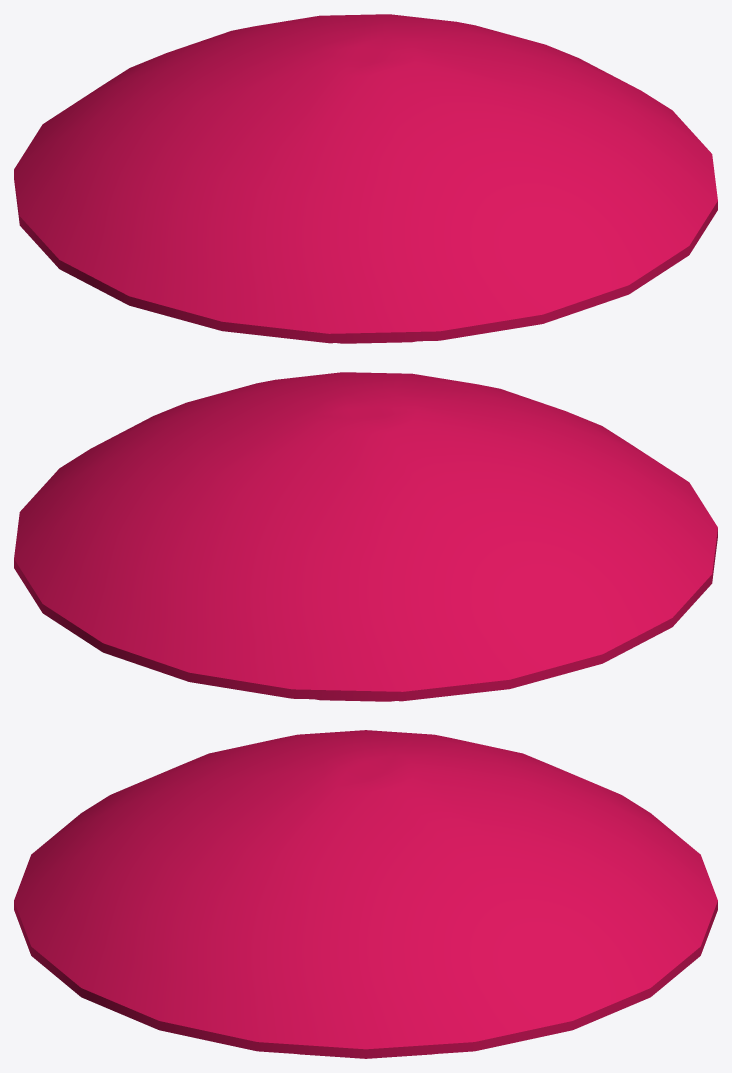
Rendered from F_Roof_01.fbx.
The picture shows the model from 3 angles, top to bottom: view 1: azimuth 30°, elevation 25°; view 2: azimuth 150°, elevation 25°; view 3: azimuth 270°, elevation 25°; orthographic projection.
Visible parts, largest first — view 1: F_Roof; view 2: F_Roof; view 3: F_Roof.
Part boxes in pixels (bbox=[...]): F_Roof: bbox=[14, 14, 717, 343]; F_Roof: bbox=[14, 372, 717, 701]; F_Roof: bbox=[14, 730, 717, 1058].
Bounding box in the file's own units: 1603 × 490 × 1603.
